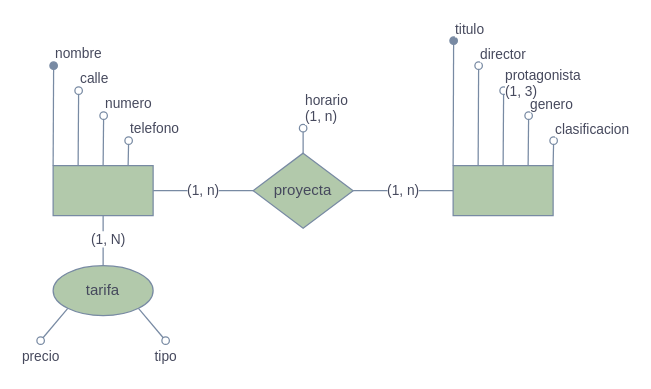
The diagram is 651 pixels wide and 389 high, and some of its shapes have lost their labels. Here are the shapes that lost their labels. From the top down, the centre of each, then its label:
At point 102,190: "CINE".
At point 502,190: "PELICULA (0, n)".
